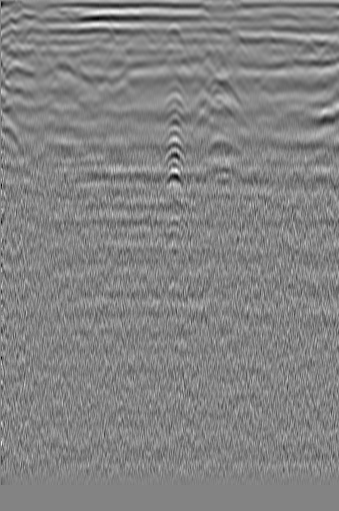가스: (202, 137, 239, 170)
상수: (18, 21, 52, 50)
오수: (289, 36, 322, 65)
우수: (158, 20, 190, 59)
